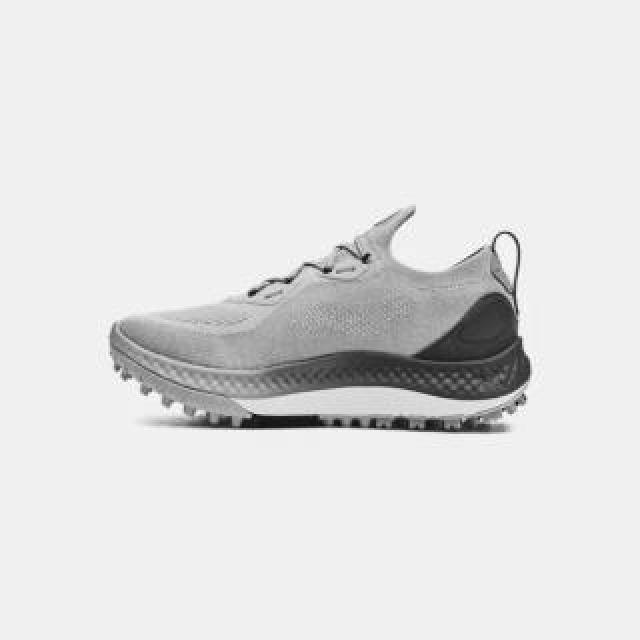shoe: (108, 200, 532, 430)
